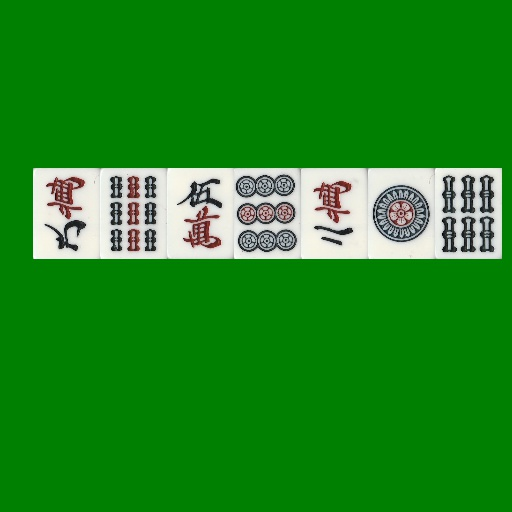1p: (368, 168, 435, 259)
2m: (301, 168, 368, 259)
5m: (167, 168, 234, 259)
6s: (435, 168, 502, 259)
9m: (33, 168, 100, 259)
9p: (234, 168, 301, 259)
9s: (100, 168, 167, 259)
